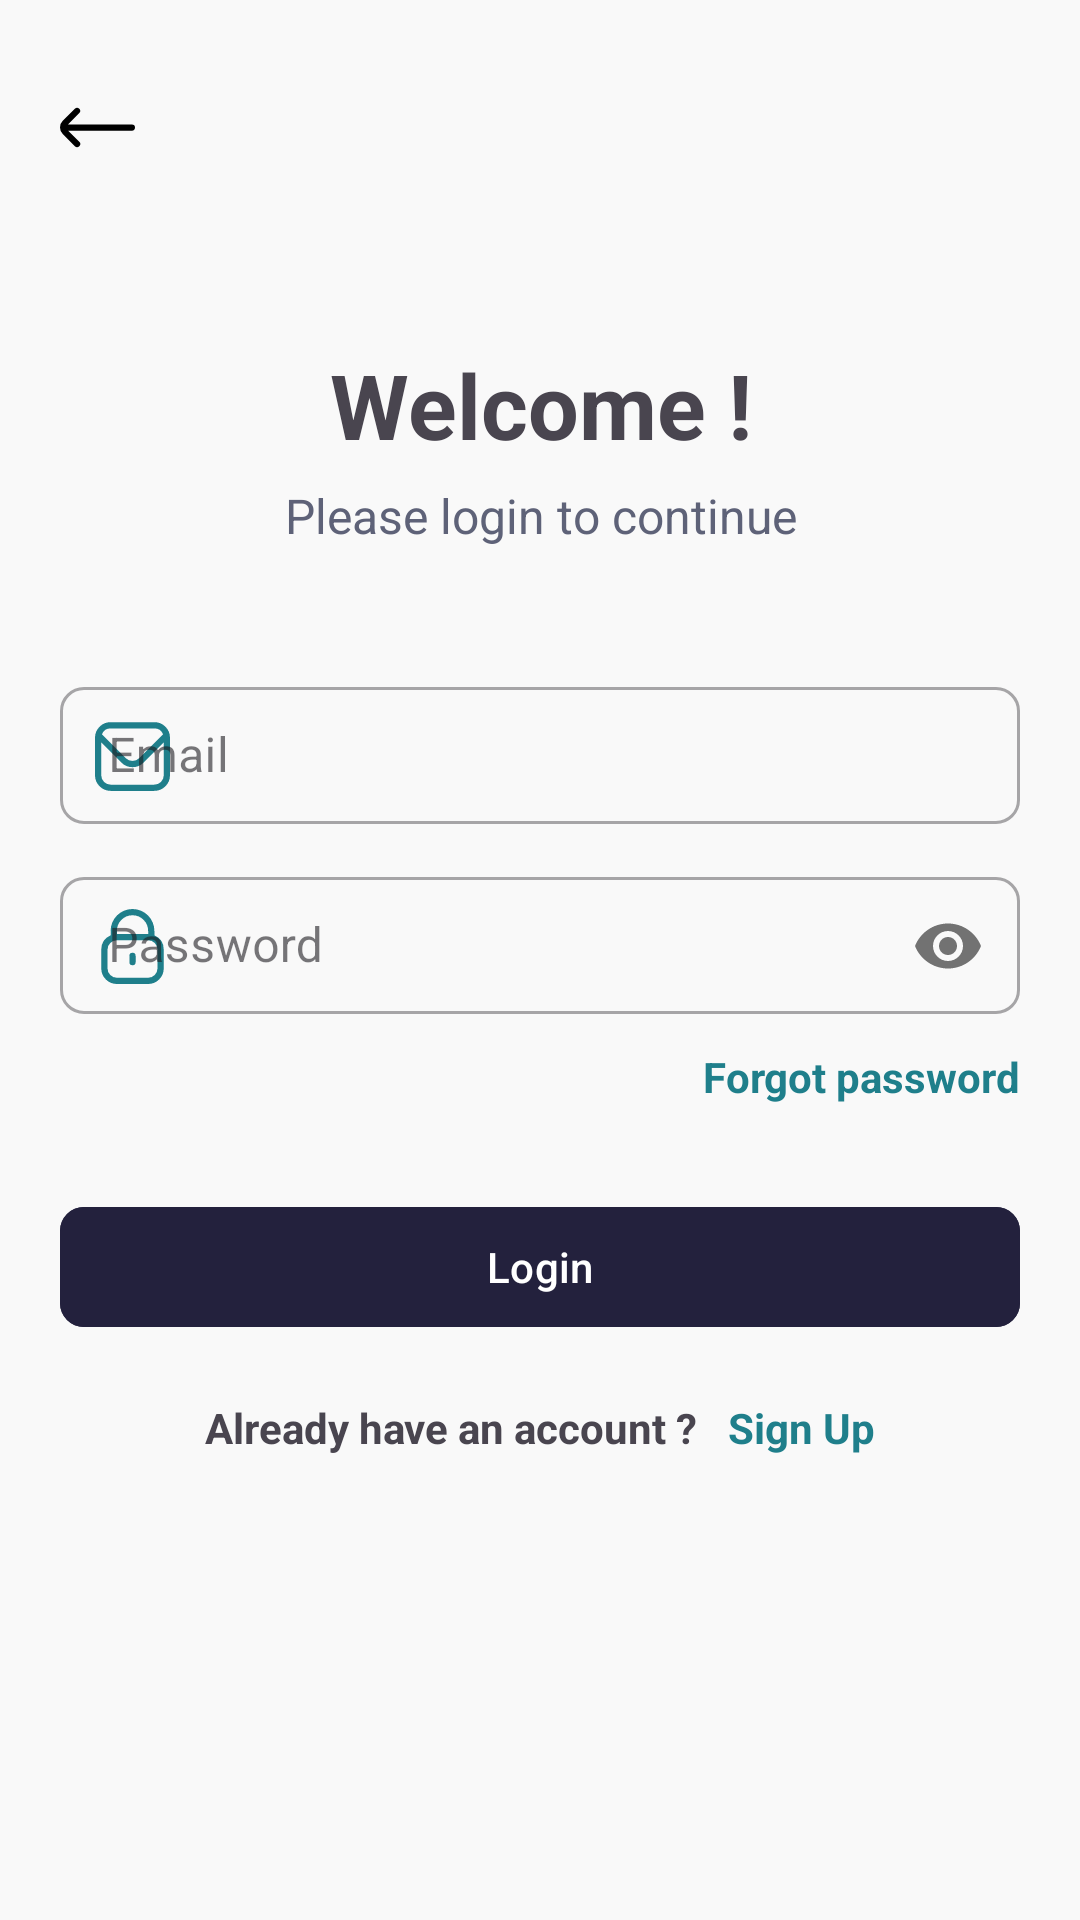

Icons on this 1080px×1920px Android screen, each with its box as {"left": x1, "top": y1, "right": x2, "bottom": y2}:
arrow left: {"left": 60, "top": 107, "right": 135, "bottom": 148}
